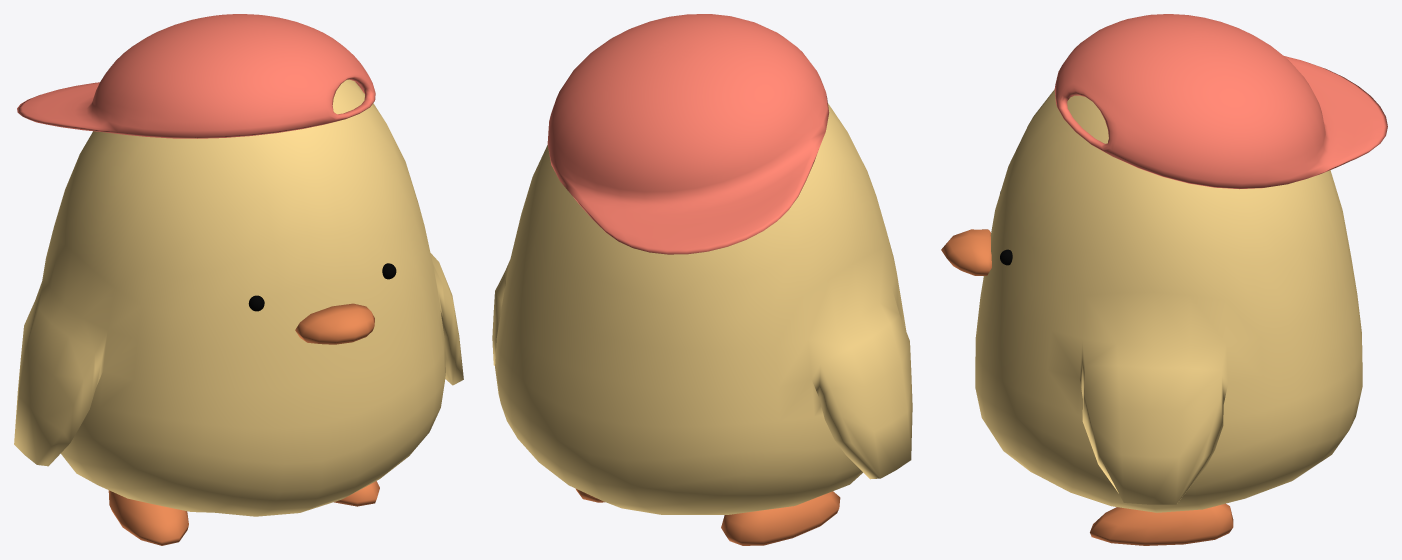
File: Chick2.fbx
3 renders of one model, left to right at view 1: azimuth 30°, elevation 25°; view 2: azimuth 150°, elevation 25°; view 3: azimuth 270°, elevation 25°, orthographic.
Parts seen in each view (by area): view 1: Body.002, Sphere.001, Legs.003, Beak.002; view 2: Body.002, Sphere.001, Legs.003; view 3: Body.002, Sphere.001, Legs.003, Beak.002.
Boxes of the visible parts, left/top/right/bottom form: Body.002: left=14, top=79, right=463, bottom=516; Sphere.001: left=17, top=14, right=375, bottom=138; Legs.003: left=108, top=481, right=379, bottom=545; Beak.002: left=295, top=303, right=374, bottom=344; Body.002: left=492, top=103, right=912, bottom=514; Sphere.001: left=547, top=14, right=829, bottom=254; Legs.003: left=575, top=488, right=840, bottom=545; Body.002: left=975, top=89, right=1362, bottom=512; Sphere.001: left=1054, top=14, right=1387, bottom=189; Legs.003: left=1090, top=503, right=1233, bottom=545; Beak.002: left=941, top=229, right=991, bottom=275.
Bounding box in the file's own units: 170 × 185 × 163.
